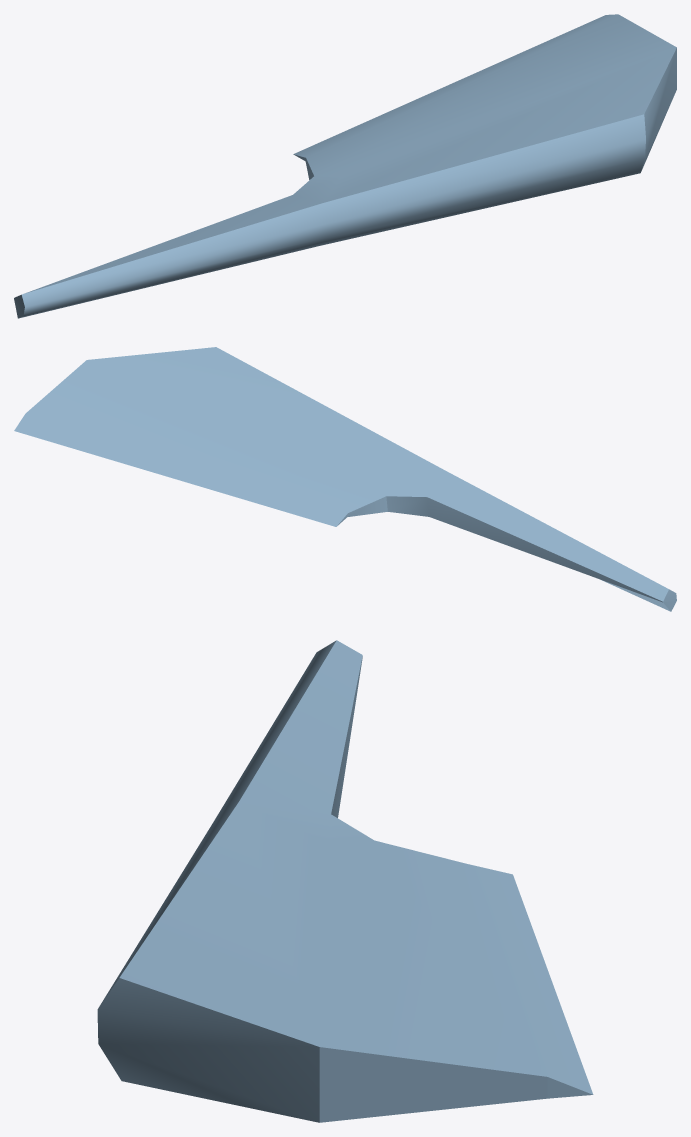
File: big wing flap Dwn R.FBX
3 views of the same model, one above another, from view 1: azimuth 30°, elevation 25°; view 2: azimuth 150°, elevation 25°; view 3: azimuth 270°, elevation 25° (orthographic). The views are drawn at different scales.
Parts seen in each view (by area): view 1: Group22; view 2: Group22; view 3: Group22.
Part boxes in pixels (bbox=[...]): Group22: bbox=[14, 14, 676, 318]; Group22: bbox=[14, 347, 676, 611]; Group22: bbox=[97, 640, 593, 1122].
Size of the model in its own units: 0.1213 by 0.0439 by 0.0204.
